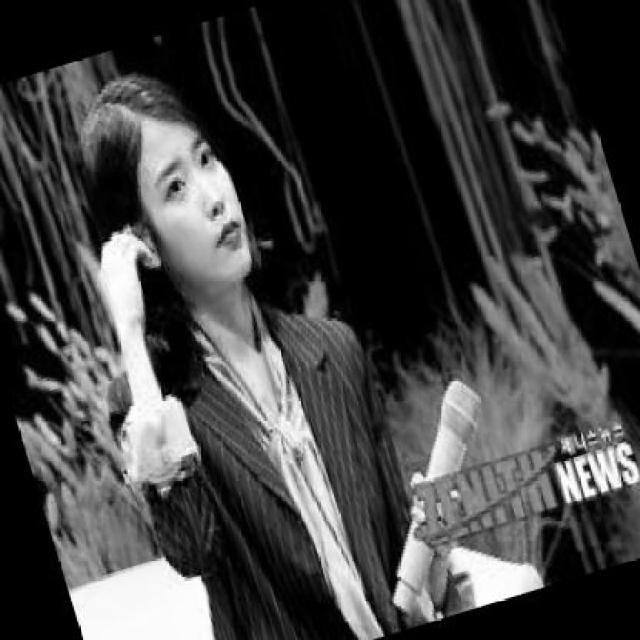earphone: (138, 233, 164, 263)
